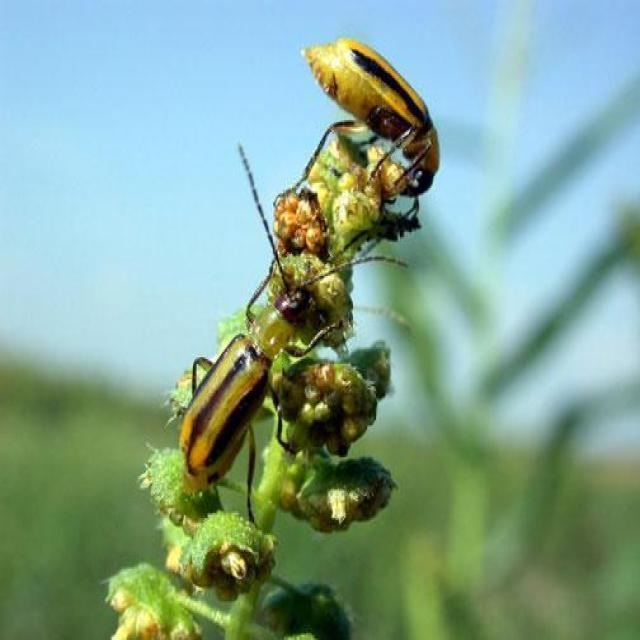trips: (181, 142, 406, 524), (300, 38, 439, 195)
